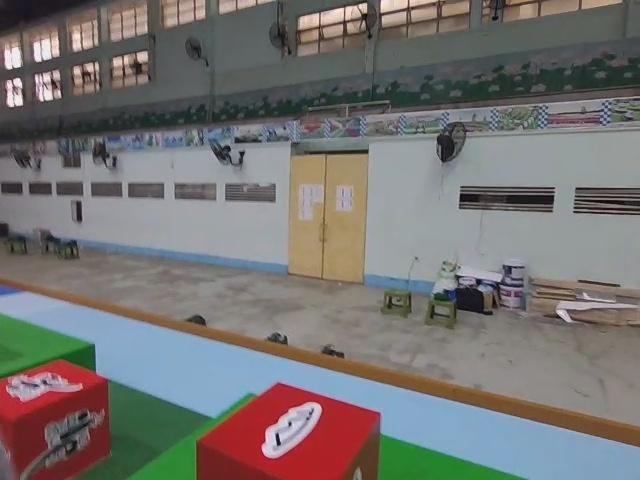R1: (0, 359, 110, 479)
R2 Real: (197, 382, 380, 480)
